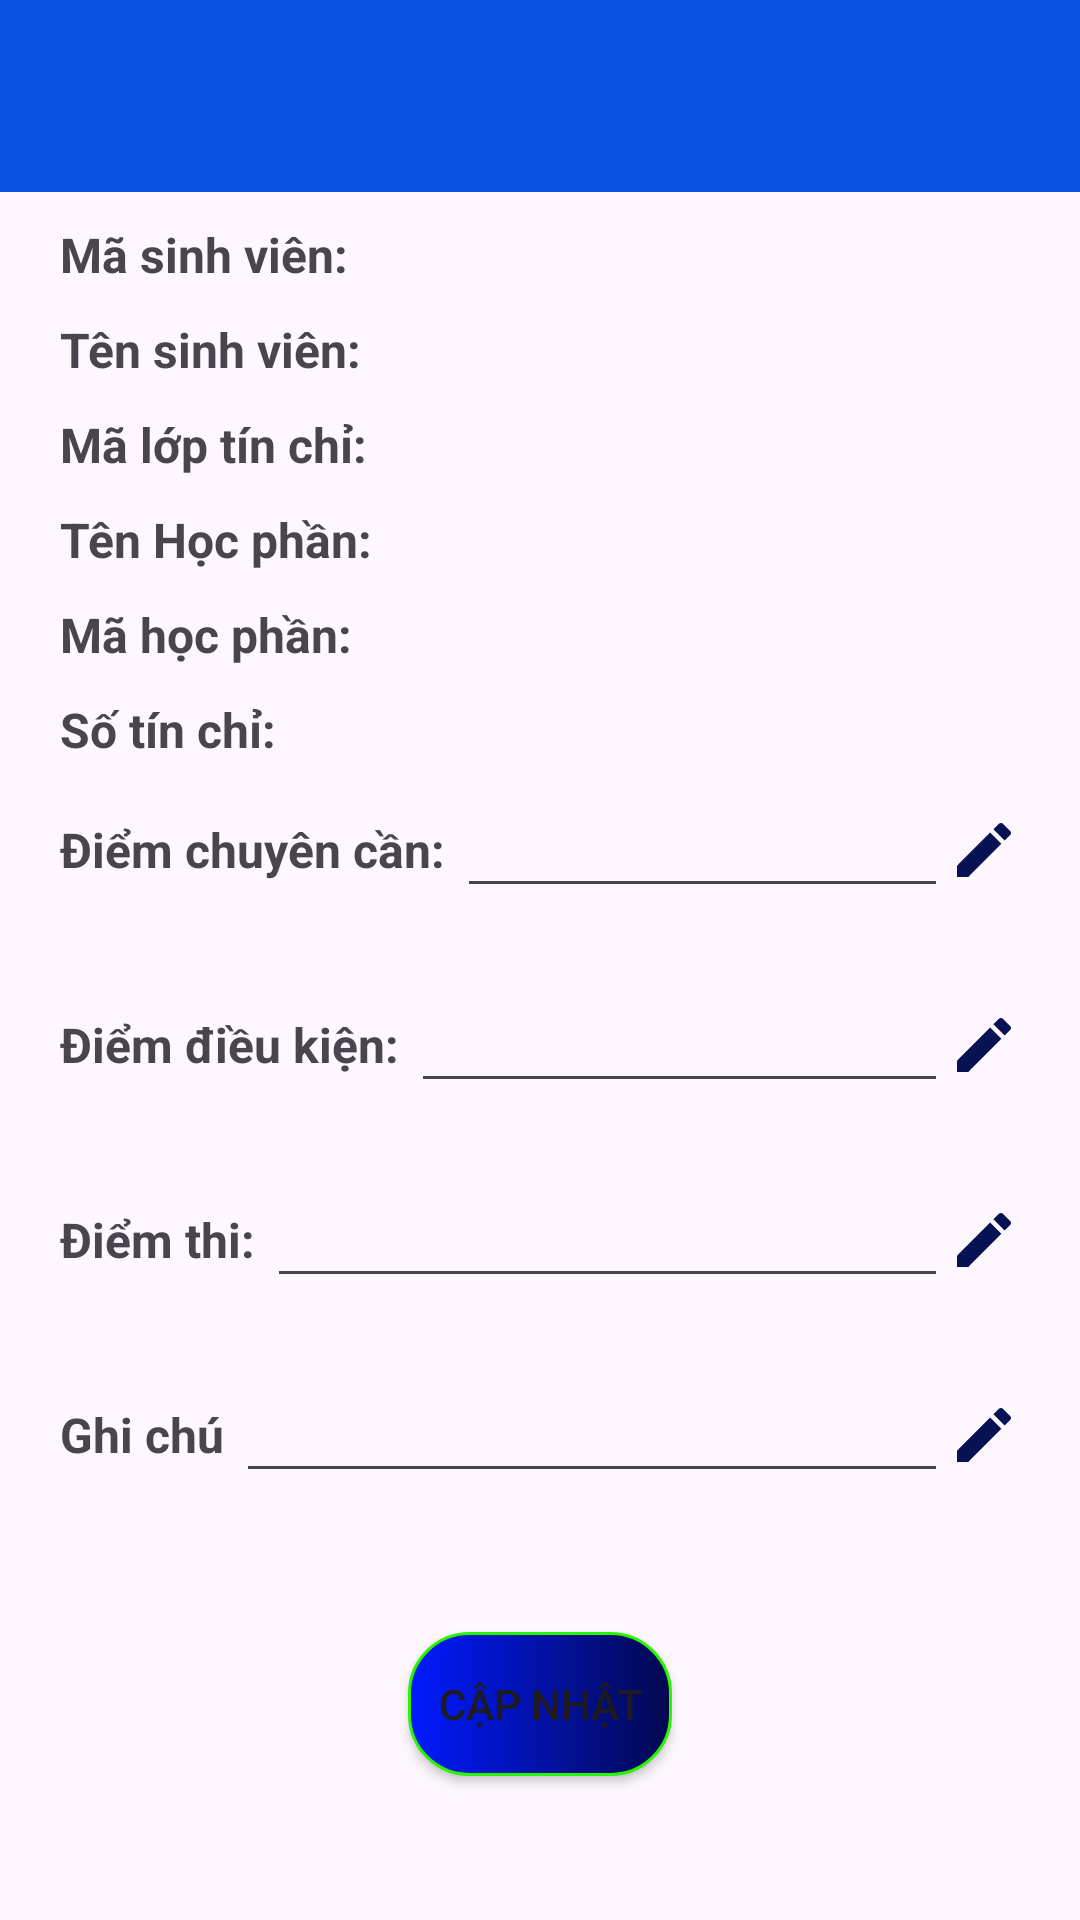

Screen size 1080*1920. Icon name, then its center in pixels as (x=x, y=y):
edit: (x=984, y=850), (x=984, y=1045), (x=984, y=1240), (x=984, y=1435)
